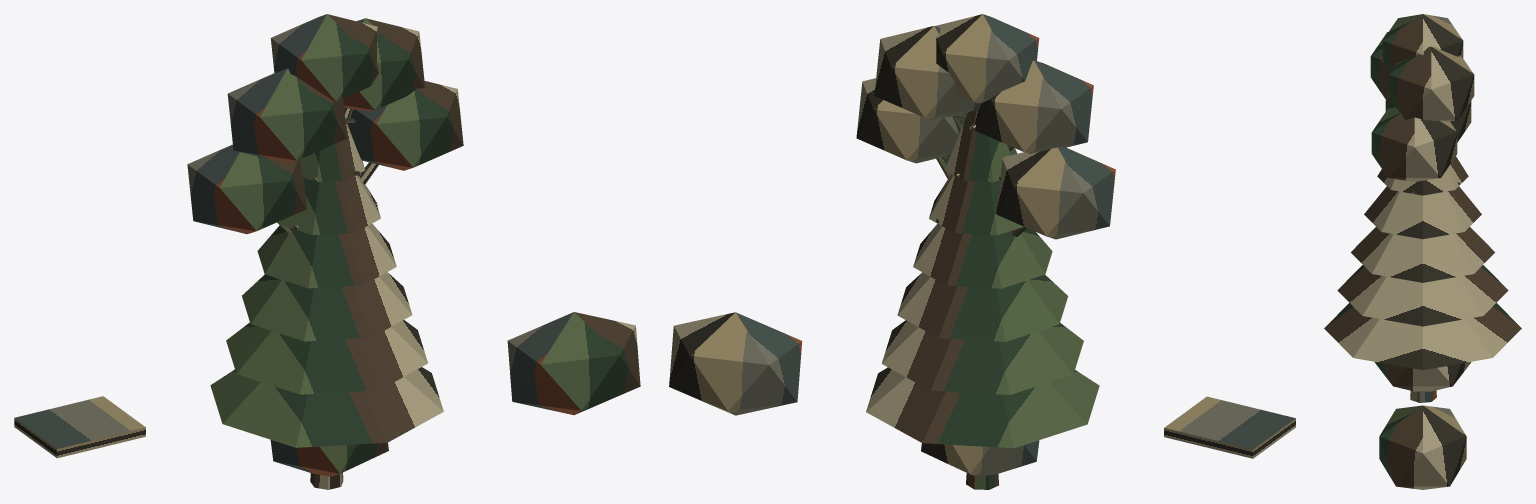
File: military_environment.glb
3 views of the same model, side by side, from view 1: azimuth 30°, elevation 25°; view 2: azimuth 150°, elevation 25°; view 3: azimuth 270°, elevation 25° (orthographic). The views are drawn at different scales.
Parts seen in each view (by area): view 1: spruceTrees, birchTrees, LibraryRock, LibraryCheckpoint, treeCrowns; view 2: spruceTrees, birchTrees, LibraryRock, LibraryCheckpoint, treeCrowns; view 3: spruceTrees, birchTrees, LibraryRock, treeCrowns, treeTrunks.
Boxes of the visible parts, bbox=[...] form: spruceTrees: bbox=[210, 108, 443, 447]; birchTrees: bbox=[187, 14, 463, 234]; LibraryRock: bbox=[507, 312, 640, 415]; LibraryCheckpoint: bbox=[14, 396, 145, 458]; treeCrowns: bbox=[270, 440, 388, 476]; spruceTrees: bbox=[866, 110, 1099, 448]; birchTrees: bbox=[856, 14, 1115, 239]; LibraryRock: bbox=[669, 312, 802, 415]; LibraryCheckpoint: bbox=[1164, 396, 1295, 458]; treeCrowns: bbox=[921, 440, 1039, 477]; spruceTrees: bbox=[1324, 156, 1521, 370]; birchTrees: bbox=[1370, 14, 1474, 181]; LibraryRock: bbox=[1379, 405, 1466, 489]; treeCrowns: bbox=[1374, 362, 1471, 391]; treeTrunks: bbox=[1410, 390, 1436, 402].
Size of the model in its own units: 12.15 by 9.07 by 4.24.
Materials: 1 (1 with a texture image).
